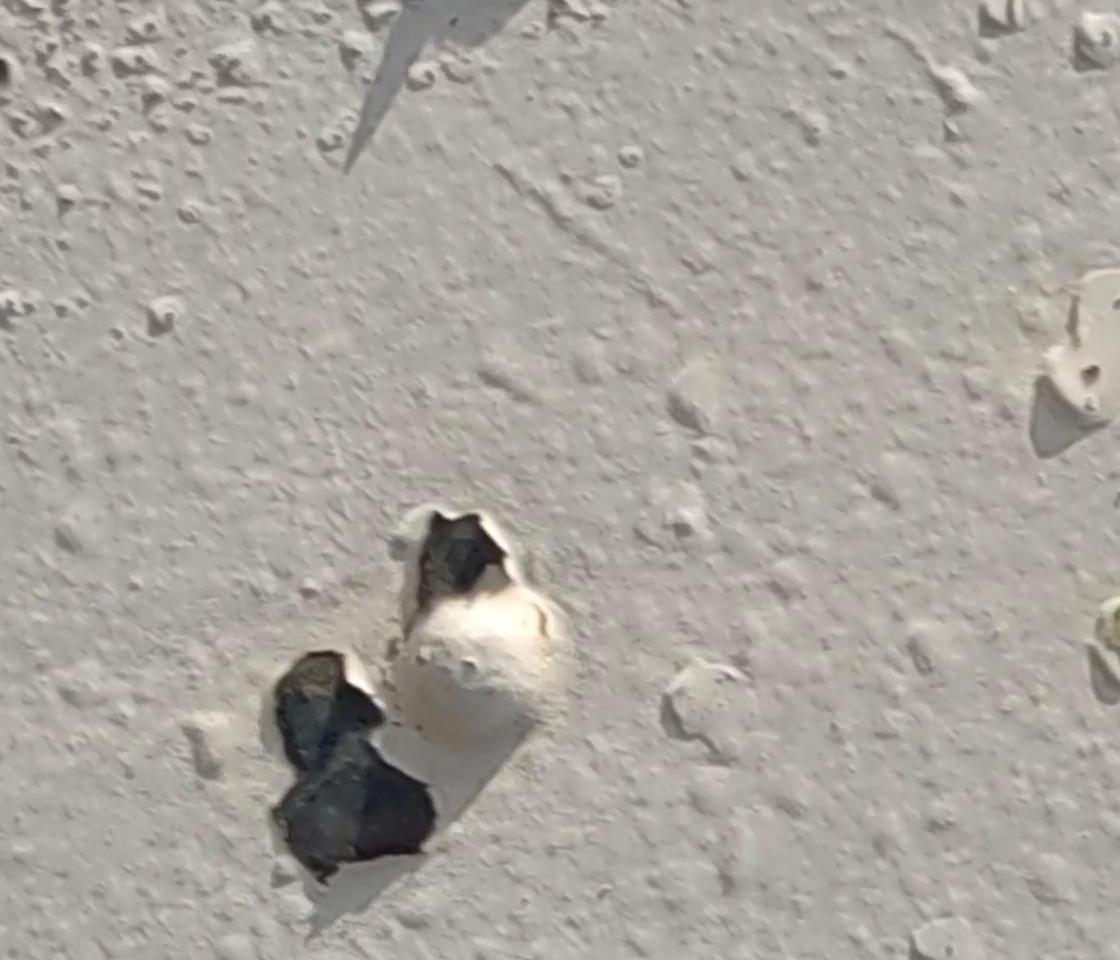paint_peel: (269, 642, 444, 888), (388, 496, 532, 618)
